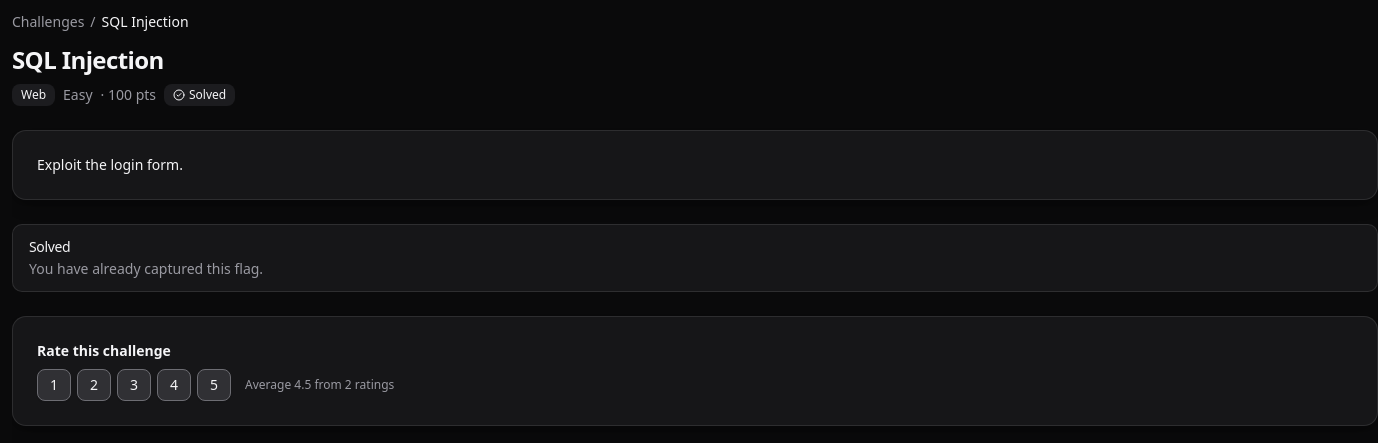
Test case: ChallengeDetailPage › shows the rating control after a solve and records a rating
The image size is (1378, 443).
Expected: the element named "Rate this challenge" is shown, [36,369,394,408]
Expected: the text "Average 4.5 from 2 ratings" is shown, [245,377,394,393]
What coordinates should you click on to do the following:
click the button "5"
I would click on:
 (214, 385)
Its box is [197,369,231,401].
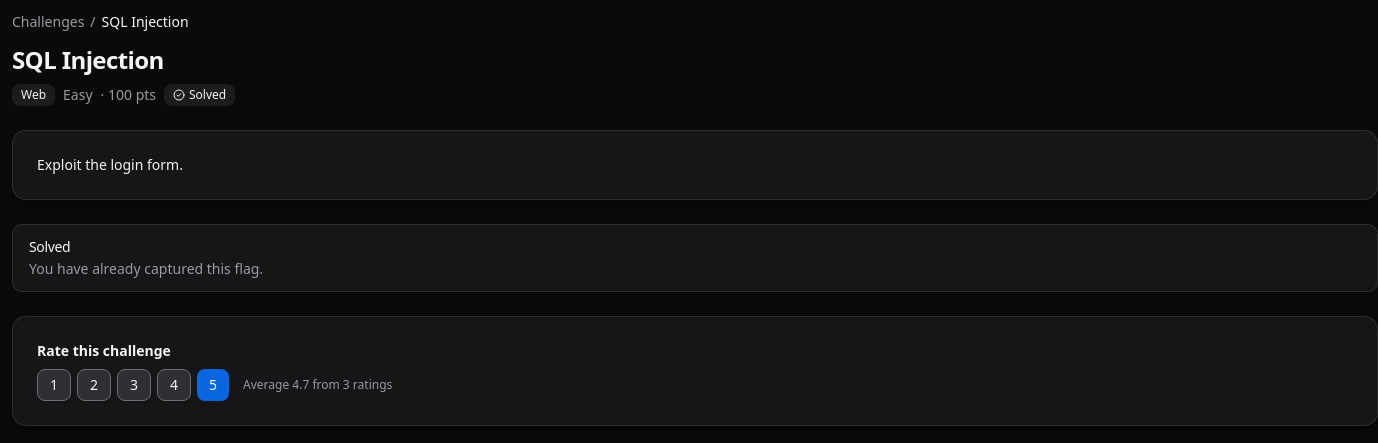
Expected: the text "Average 4.7 from 3 ratings" is shown, [243,377,392,393]
